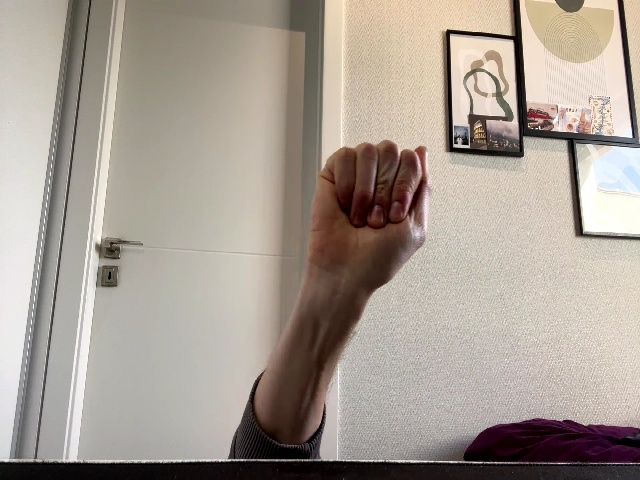A: (307, 140, 428, 279)
